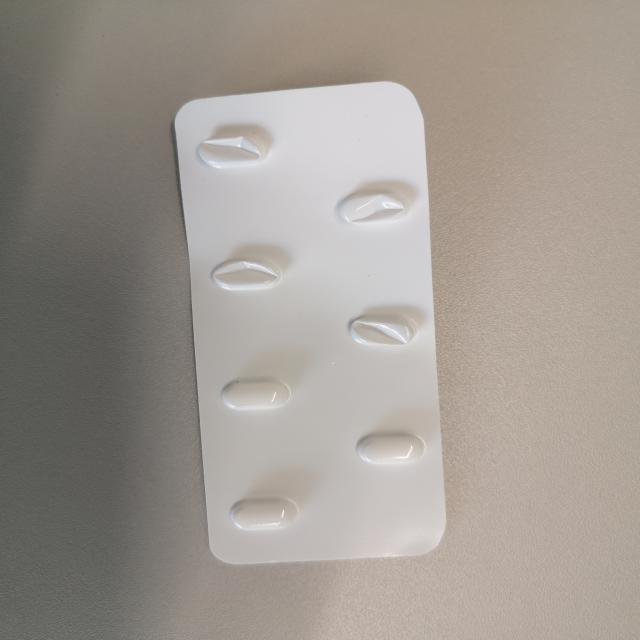Empty: (325, 300, 430, 356), (321, 184, 422, 232), (200, 250, 290, 298), (187, 130, 275, 172)
Pill: (342, 424, 436, 473), (209, 372, 301, 420), (217, 490, 303, 540)
